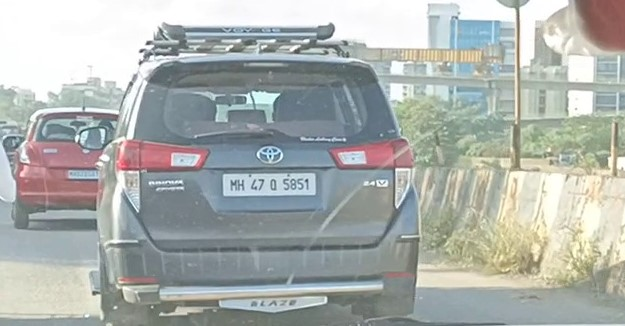MH4705851: (222, 172, 317, 197)
